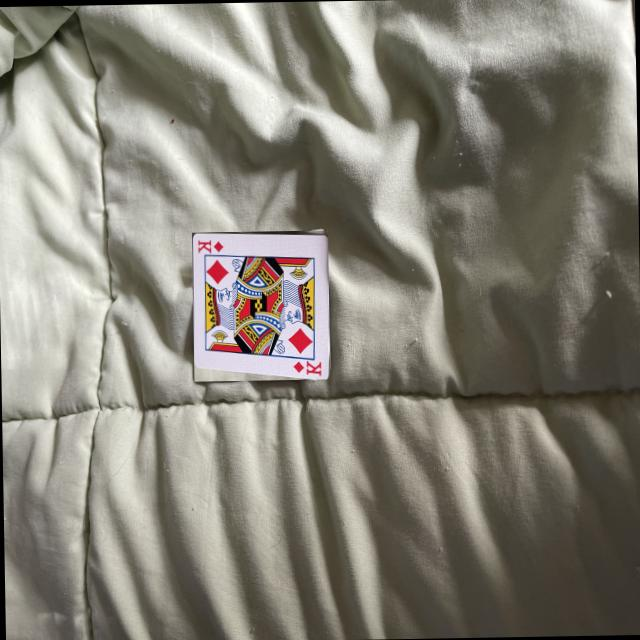King of diamonds: (192, 231, 330, 378)
